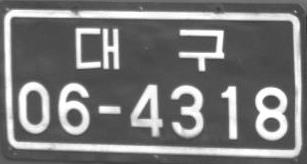0: (17, 79, 51, 134)
1: (214, 86, 248, 141)
3: (169, 83, 204, 139)
4: (130, 83, 163, 137)
6: (56, 81, 91, 136)
8: (254, 86, 288, 141)
대구_D: (74, 26, 226, 73)
